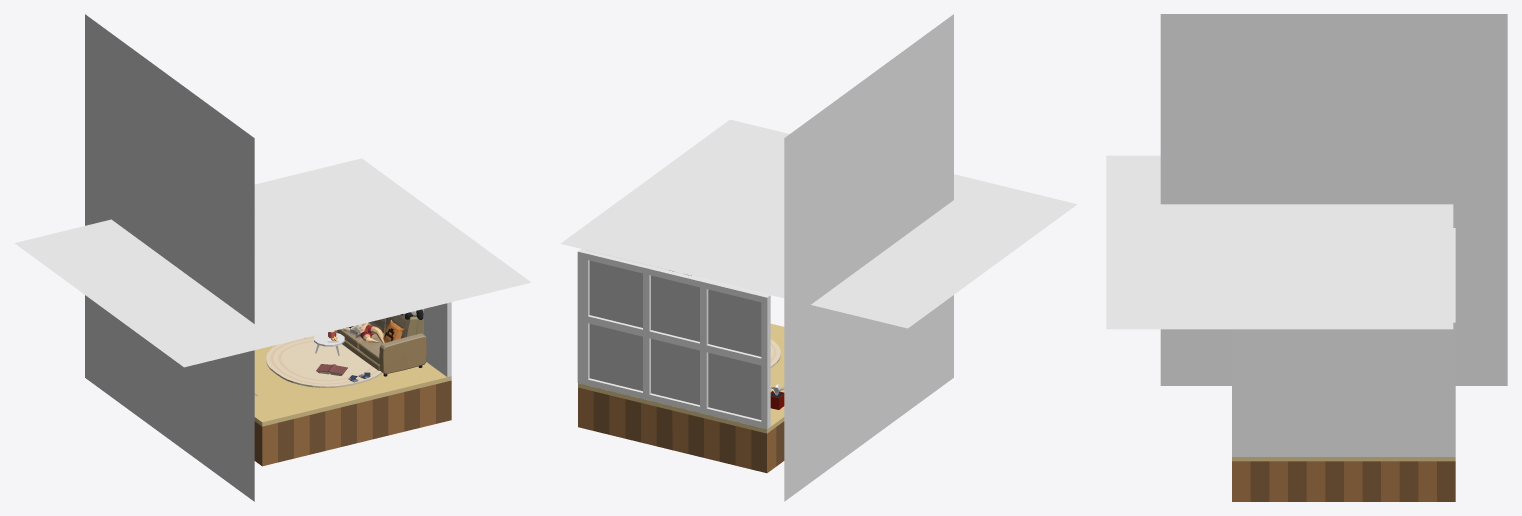
File: 0002_watchTV.fbx
3 views of the same model, side by side, from view 1: azimuth 30°, elevation 25°; view 2: azimuth 150°, elevation 25°; view 3: azimuth 270°, elevation 25° (orthographic). The views are drawn at different scales.
Visible parts, largest first — view 1: shadowPlan_front, shadowPlan_Top, Room, Carpet, Wall, Sofa_Side; view 2: shadowPlan_front, shadowPlan_Top, Window_Glass, Room, Window_Frame, Wall; view 3: shadowPlan_front, shadowPlan_Top, Wall, Room.
Part boxes in pixels (x1=…): shadowPlan_front: x1=85, y1=14, x2=254, y2=501; shadowPlan_Top: x1=14, y1=158, x2=530, y2=367; Room: x1=254, y1=345, x2=451, y2=466; Carpet: x1=266, y1=335, x2=382, y2=387; Wall: x1=423, y1=302, x2=451, y2=376; Sofa_Side: x1=379, y1=333, x2=426, y2=376; shadowPlan_front: x1=784, y1=14, x2=953, y2=501; shadowPlan_Top: x1=560, y1=119, x2=1076, y2=328; Window_Glass: x1=589, y1=260, x2=761, y2=419; Room: x1=578, y1=323, x2=784, y2=473; Window_Frame: x1=582, y1=250, x2=770, y2=429; Wall: x1=577, y1=249, x2=665, y2=383; shadowPlan_front: x1=1160, y1=14, x2=1507, y2=385; shadowPlan_Top: x1=1106, y1=155, x2=1453, y2=329; Wall: x1=1232, y1=320, x2=1455, y2=456; Room: x1=1232, y1=457, x2=1455, y2=501.
Bounding box in the file's own units: 14.81 × 14.83 × 14.49.
